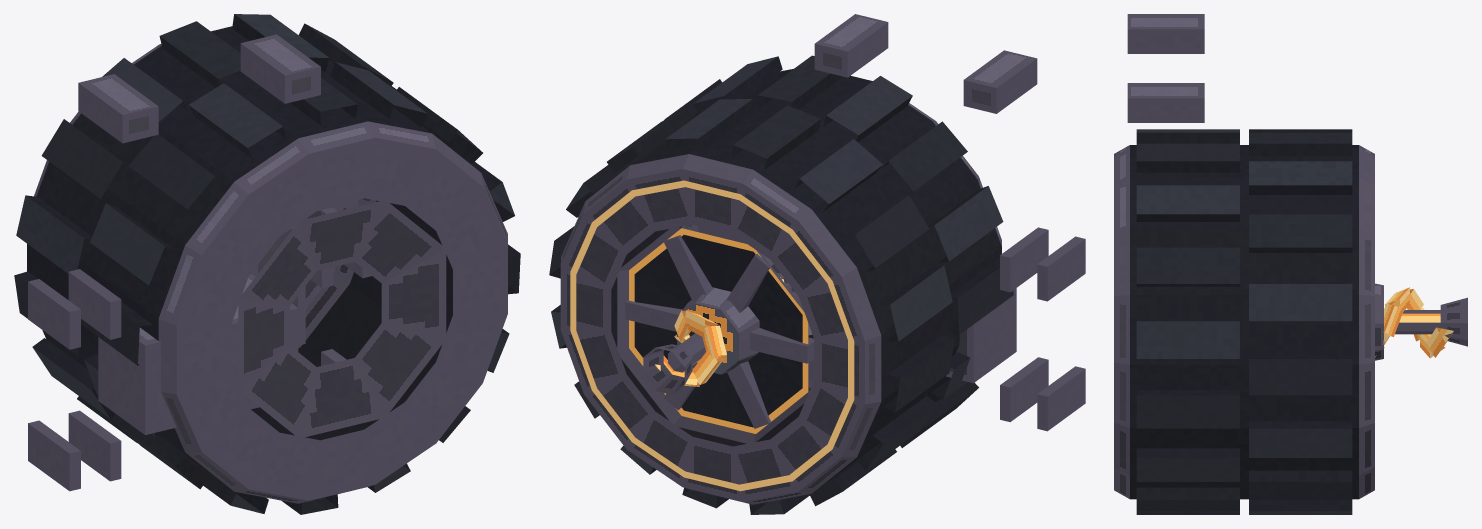
File: marlit_wheel2.glb
3 views of the same model, side by side, from view 1: azimuth 30°, elevation 25°; view 2: azimuth 150°, elevation 25°; view 3: azimuth 270°, elevation 25° (orthographic). The views are drawn at different scales.
Parts seen in each view (by area): view 1: marlit_wheel2_tyre, marlit_wheel2_body, marlit_wheel2_knuckle; view 2: marlit_wheel2_tyre, marlit_wheel2_body, marlit_wheel2_shaft, marlit_wheel2_spring; view 3: marlit_wheel2_tyre, marlit_wheel2_body, marlit_wheel2_shaft, marlit_wheel2_spring.
Part boxes in pixels (<box>): marlit_wheel2_tyre: <box>14,14,520,514</box>; marlit_wheel2_body: <box>28,34,371,491</box>; marlit_wheel2_knuckle: <box>251,236,305,345</box>; marlit_wheel2_tyre: <box>549,55,1013,514</box>; marlit_wheel2_body: <box>808,14,1085,431</box>; marlit_wheel2_shaft: <box>643,273,791,394</box>; marlit_wheel2_spring: <box>642,277,784,386</box>; marlit_wheel2_tyre: <box>1114,129,1383,514</box>; marlit_wheel2_body: <box>1127,14,1204,122</box>; marlit_wheel2_shaft: <box>1395,297,1467,346</box>; marlit_wheel2_spring: <box>1375,287,1453,358</box>.
Size of the model in its own units: 2.02 by 1.91 by 1.56.
Materials: 1 (1 with a texture image).
